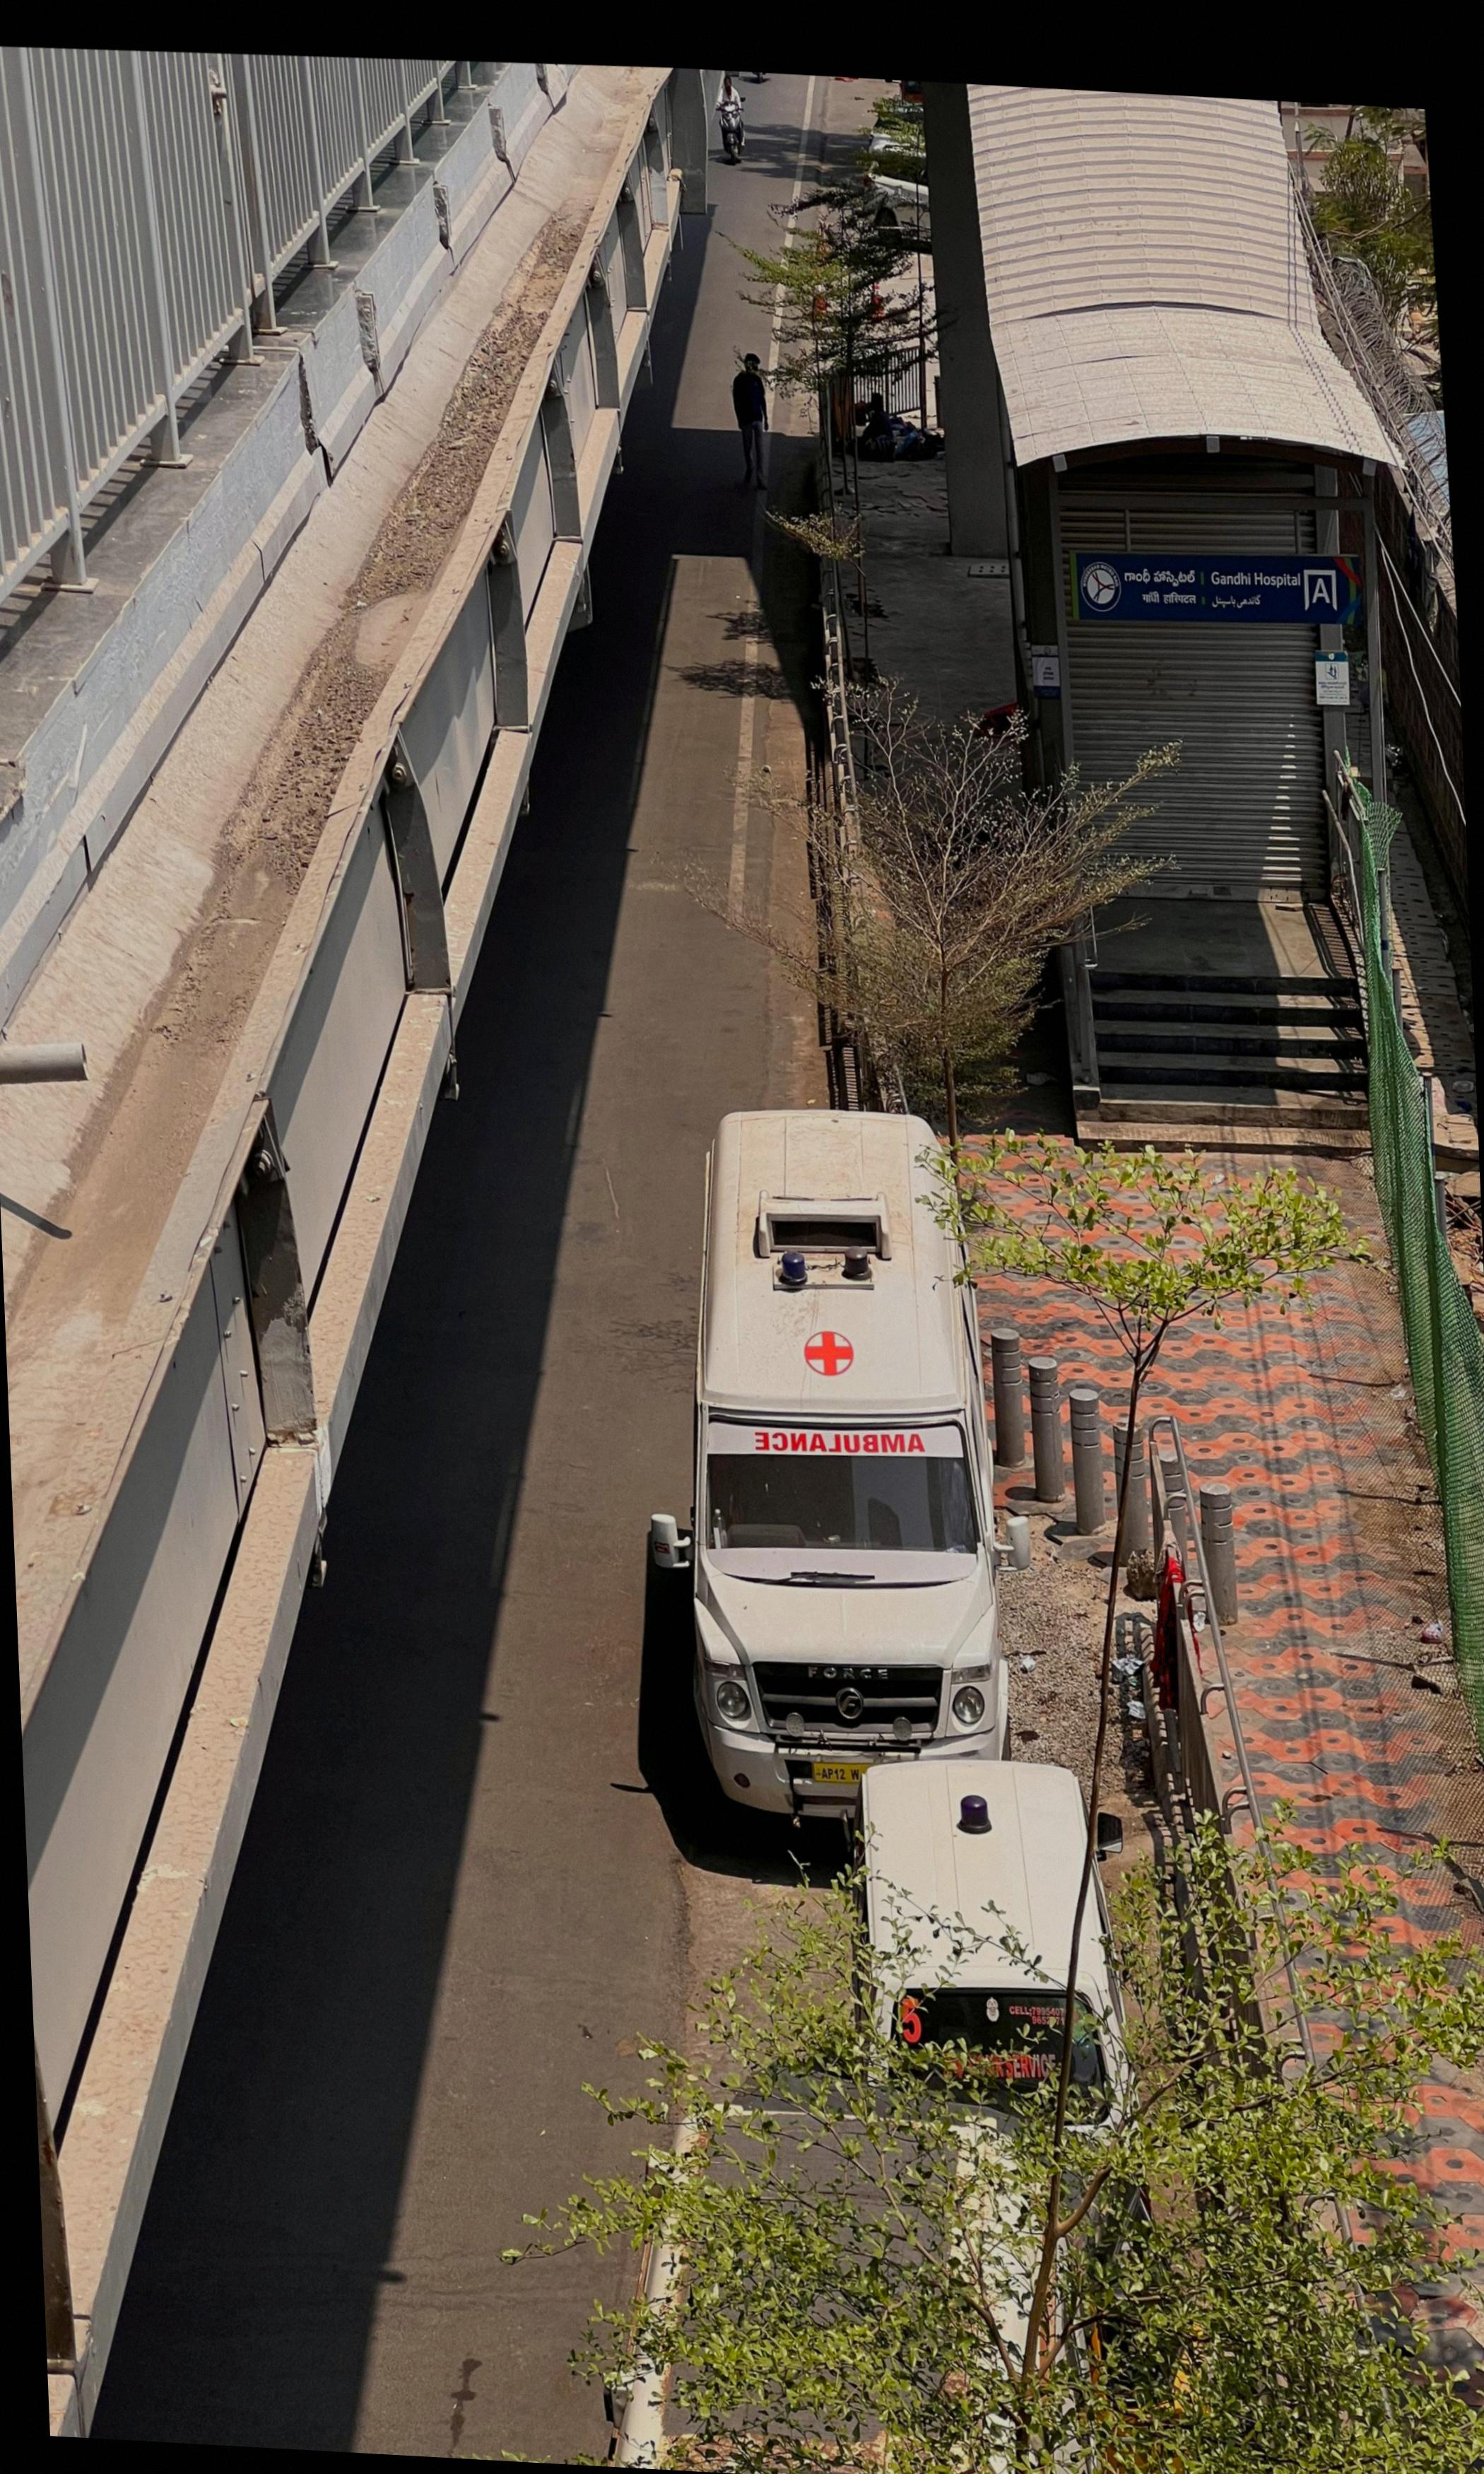ambulance: (684, 1113, 1037, 1817)
